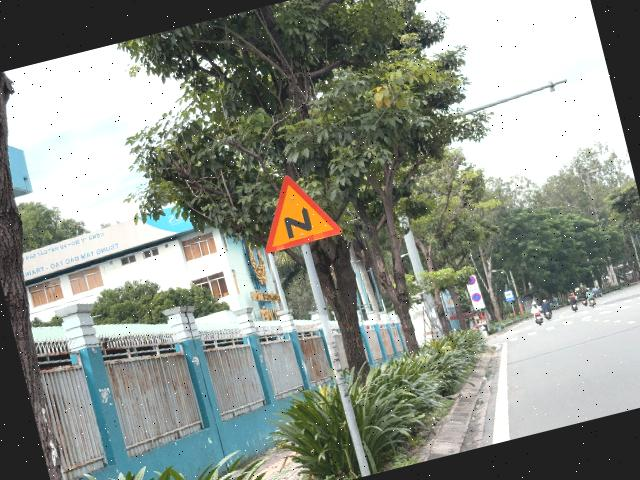nhieu-cho-ngoat-nguy-hiem-lien-tiep: (248, 165, 344, 255)
